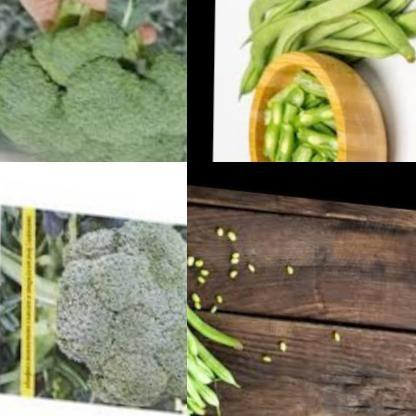beans: (230, 0, 416, 83), (187, 211, 243, 416), (246, 60, 341, 162), (187, 250, 210, 282), (227, 245, 242, 278), (210, 285, 224, 310), (284, 252, 297, 274), (331, 323, 344, 341), (248, 252, 258, 275), (226, 226, 238, 243), (258, 349, 276, 360), (193, 289, 204, 307), (280, 335, 292, 348), (214, 224, 224, 236)
broccoli: (53, 179, 187, 407), (0, 0, 187, 162)
